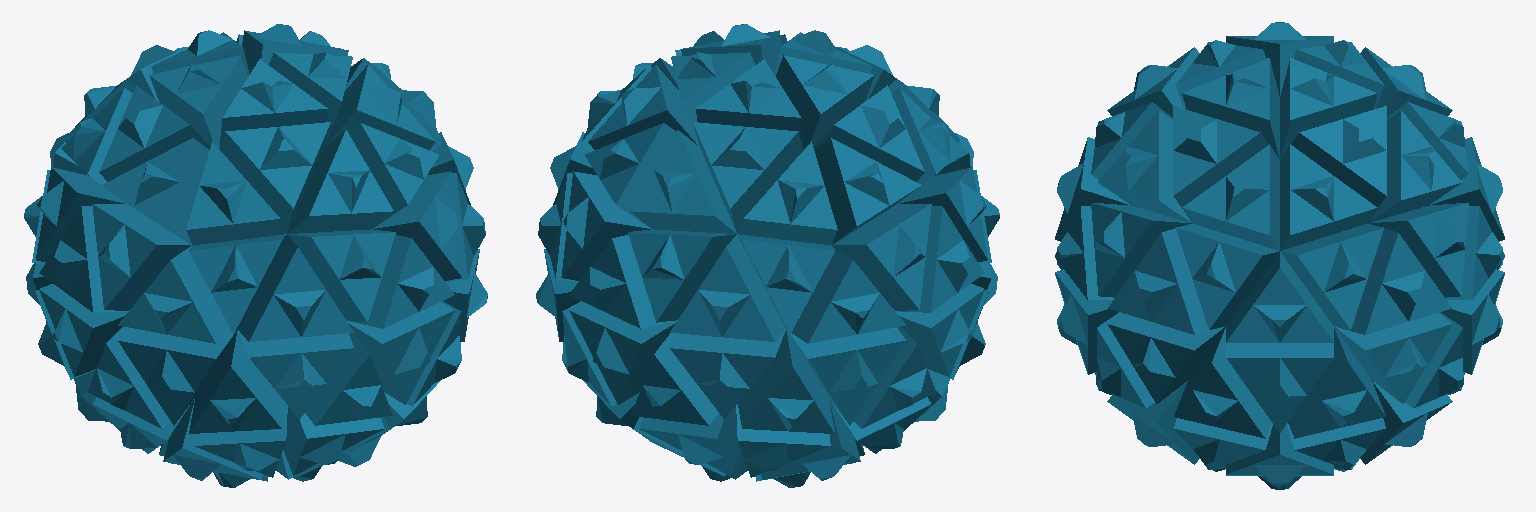
File: spikeball.obj
3 renders of one model, left to right at view 1: azimuth 30°, elevation 25°; view 2: azimuth 150°, elevation 25°; view 3: azimuth 270°, elevation 25°, orthographic.
Visible parts, largest first — view 1: Icosphere; view 2: Icosphere; view 3: Icosphere.
Boxes of the visible parts, box(x1,y1,x2,y2) form: Icosphere: box(24, 24, 487, 487); Icosphere: box(536, 24, 999, 487); Icosphere: box(1055, 22, 1504, 489).
Bounding box in the file's own units: 2.67 × 2.58 × 2.58.